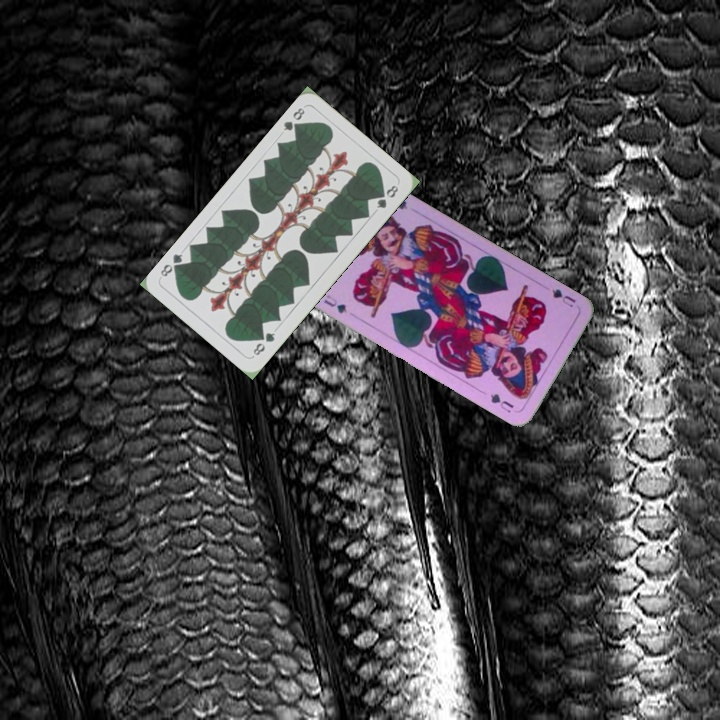G8: (248, 328, 278, 359), (279, 104, 307, 135)
GU: (319, 291, 350, 316), (548, 285, 578, 310)
